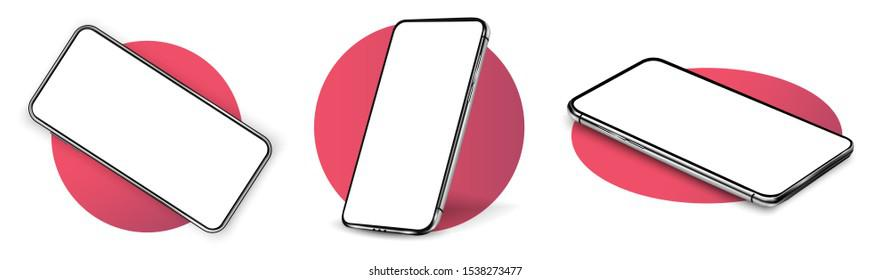mobile: (27, 25, 273, 234), (568, 57, 853, 209), (342, 19, 490, 235)
